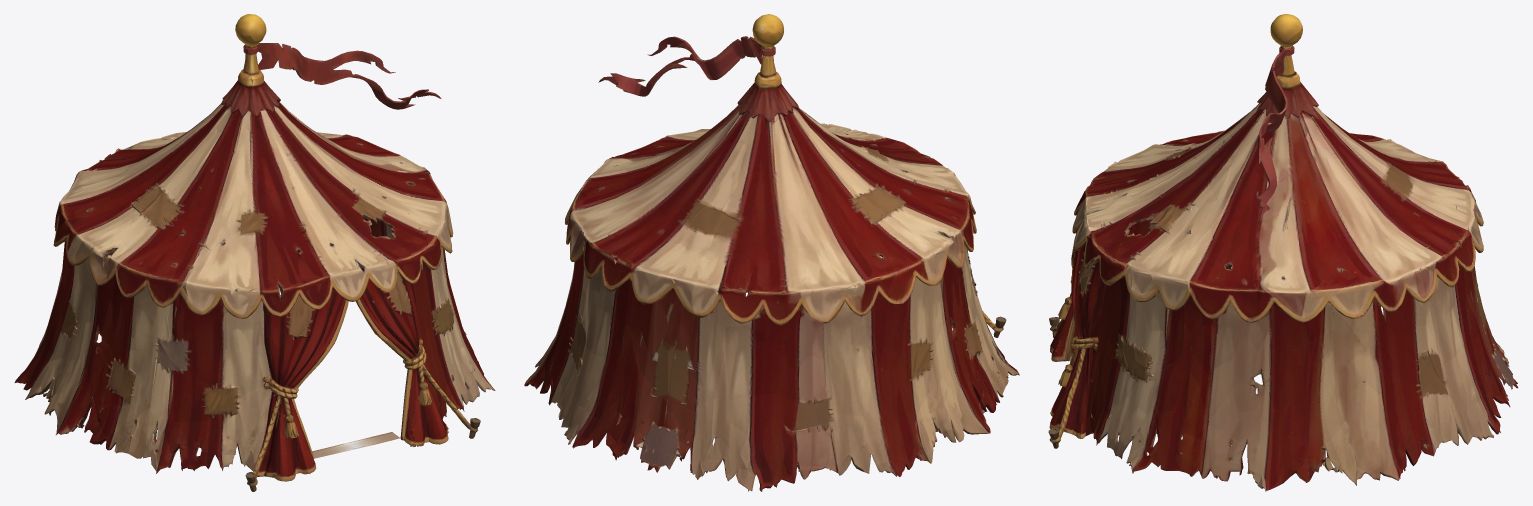
The model's file is p_carpa.glb.
The picture shows the model from 3 angles, left to right: view 1: azimuth 30°, elevation 25°; view 2: azimuth 150°, elevation 25°; view 3: azimuth 270°, elevation 25°; orthographic projection. The views are drawn at different scales.
Bounding box in the file's own units: 1.9 × 1.62 × 1.83.
1 material, 1 textured.
